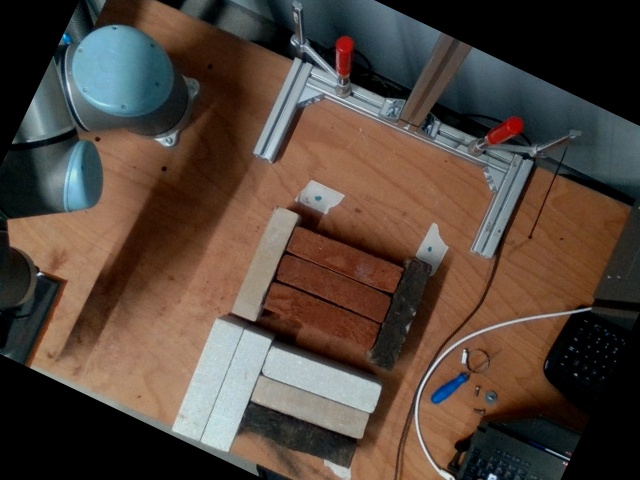brick-side: (200, 329, 270, 451), (172, 319, 241, 440), (248, 373, 370, 441), (261, 347, 382, 414), (275, 254, 391, 321), (263, 283, 379, 350), (287, 227, 402, 294), (231, 207, 299, 320), (241, 403, 357, 469), (368, 258, 433, 369)
